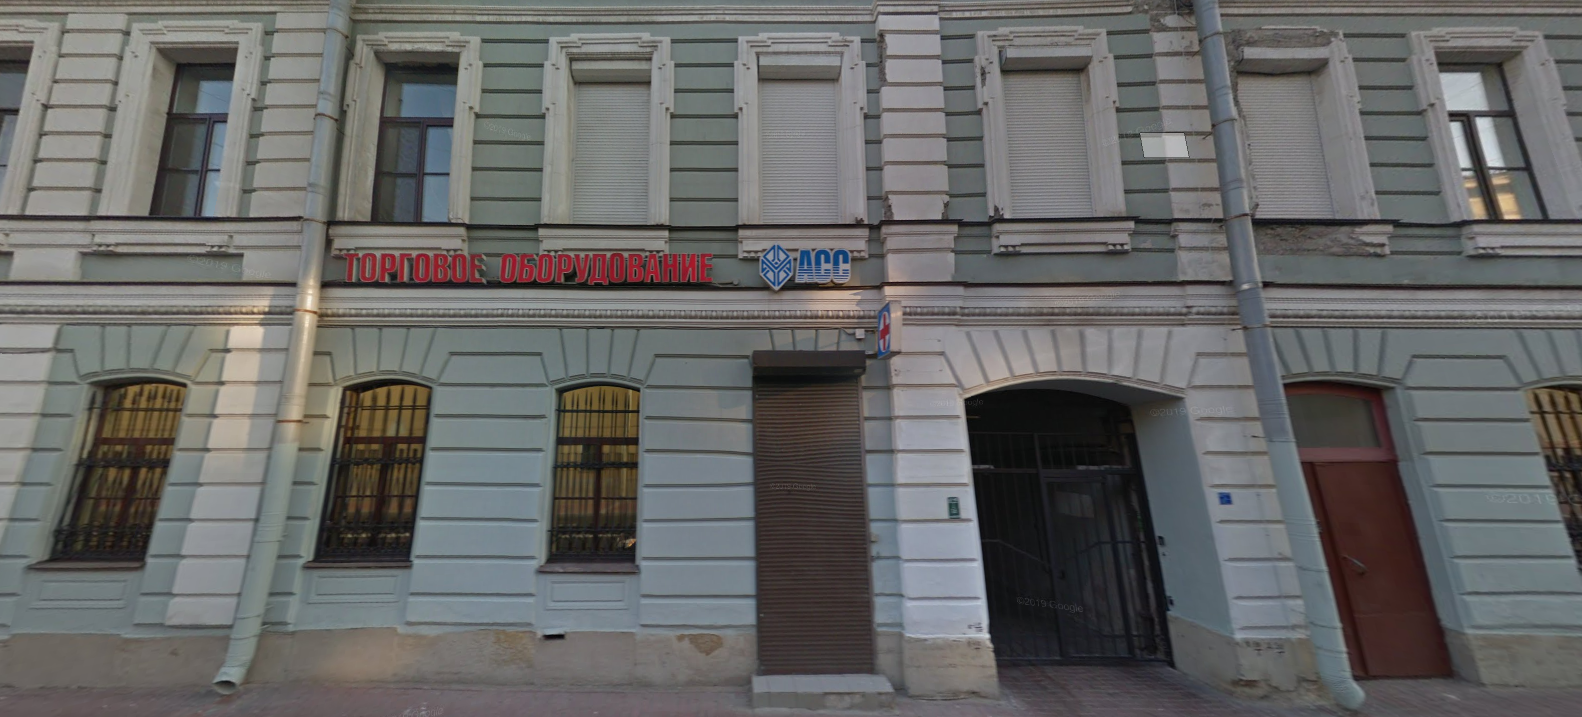arch: (956, 367, 1205, 694)
cantilever: (863, 303, 905, 363)
door: (754, 354, 873, 679), (1302, 453, 1440, 687)
signboard: (336, 244, 719, 283), (748, 240, 858, 294)
window: (45, 381, 186, 566), (308, 381, 432, 566), (1436, 53, 1556, 223), (546, 382, 647, 565), (372, 59, 464, 224), (158, 62, 227, 220)
